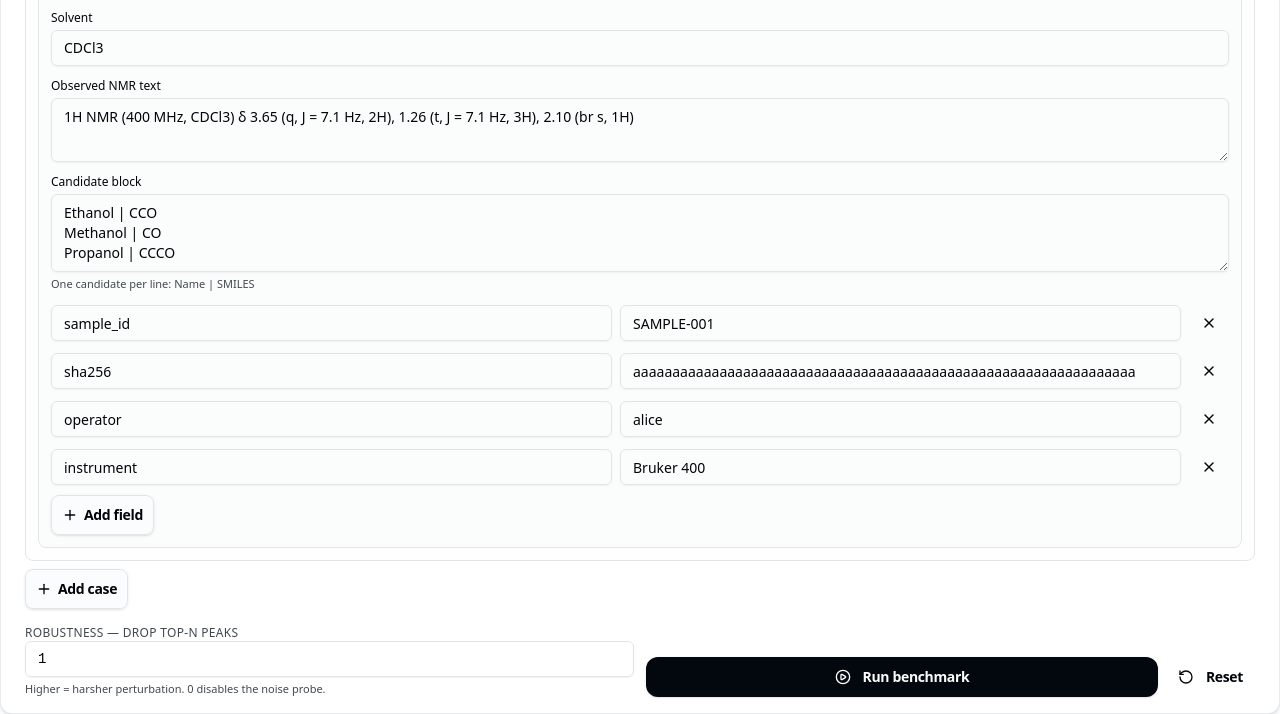
Test: SpectraCheckBenchmarkSection › renders aggregate cards and per-case scorecards after a successful run
The width and height of the screenshot is (1280, 714).
(page scrolled)
Click the button with test id "benchmark-run-button".
click(902, 677)  # box [646,657,1158,697]
(page scrolled)
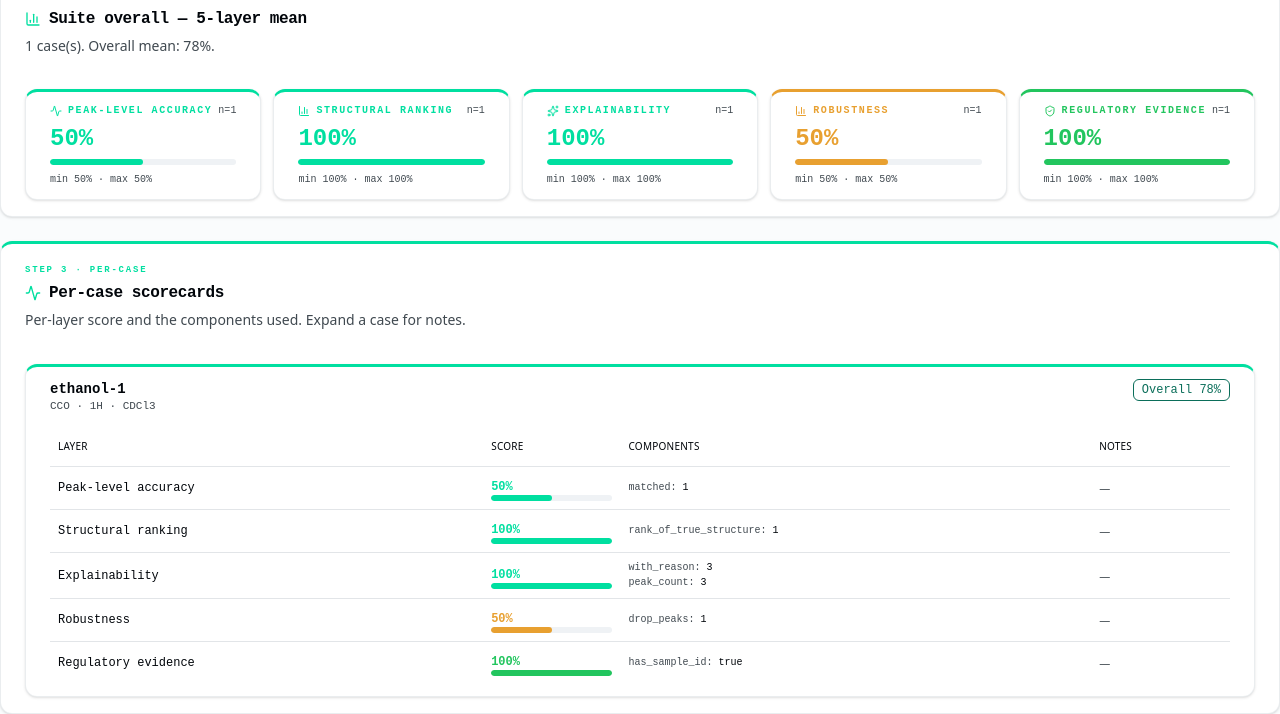
Check: the element with test id "benchmark-aggregates" is shown, box [25,89,1255,200]
Check: the element with test id "benchmark-layer-peak_level_accuracy" is shown, box [25,89,261,200]
Check: the element with test id "benchmark-layer-structural_ranking" is shown, box [273,89,510,200]
